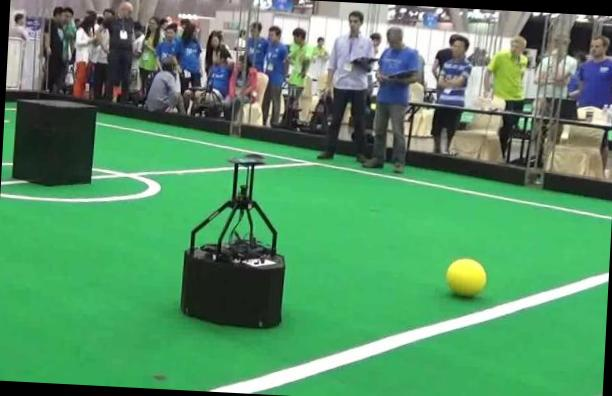ball: (445, 257, 486, 296)
person: (317, 10, 374, 161), (364, 26, 420, 173)
robot: (180, 158, 284, 326)
